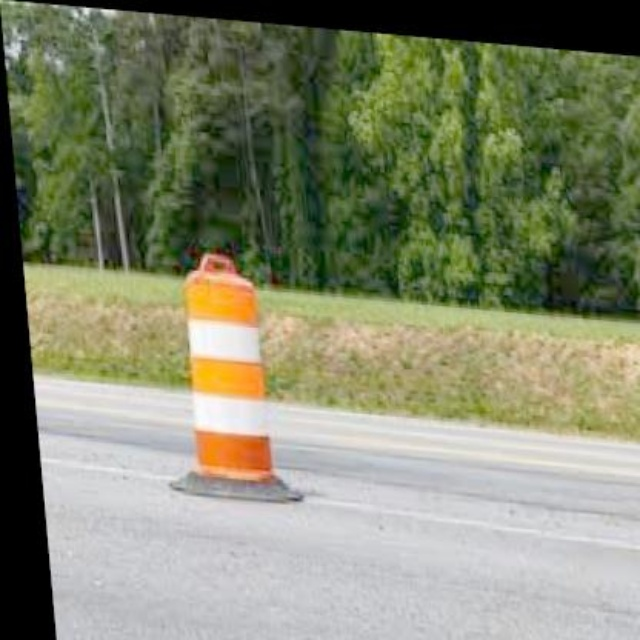obstacle: (166, 249, 273, 493)
